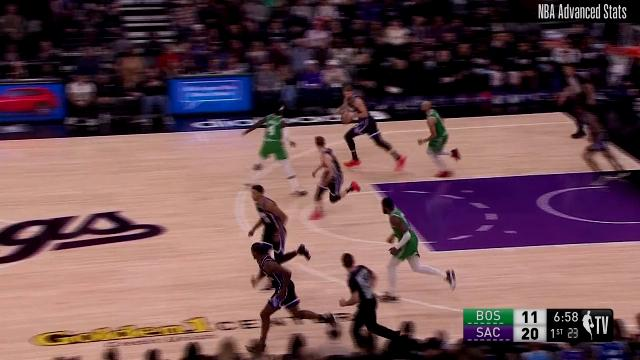b_sx: (556, 108, 568, 118)
free_adx: (424, 245, 440, 258)
free_asx: (362, 177, 378, 191)
mid_sx: (188, 124, 208, 138)
referee: (338, 255, 408, 346), (558, 65, 598, 141)
team: (245, 241, 335, 350), (246, 184, 310, 288), (337, 86, 409, 174), (310, 136, 360, 224), (576, 105, 632, 183)
team1: (376, 198, 458, 300), (244, 105, 310, 196), (418, 99, 460, 177)
timer: (550, 309, 580, 325)
